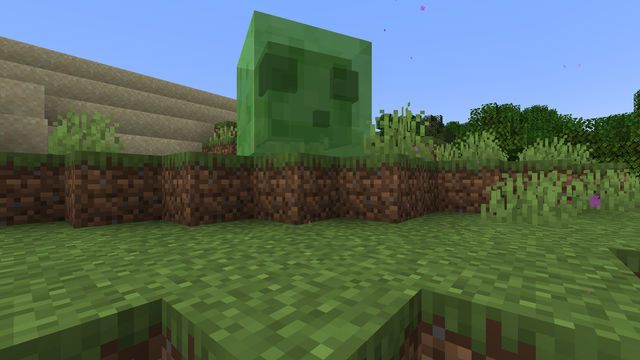slimes: (218, 13, 372, 156)
